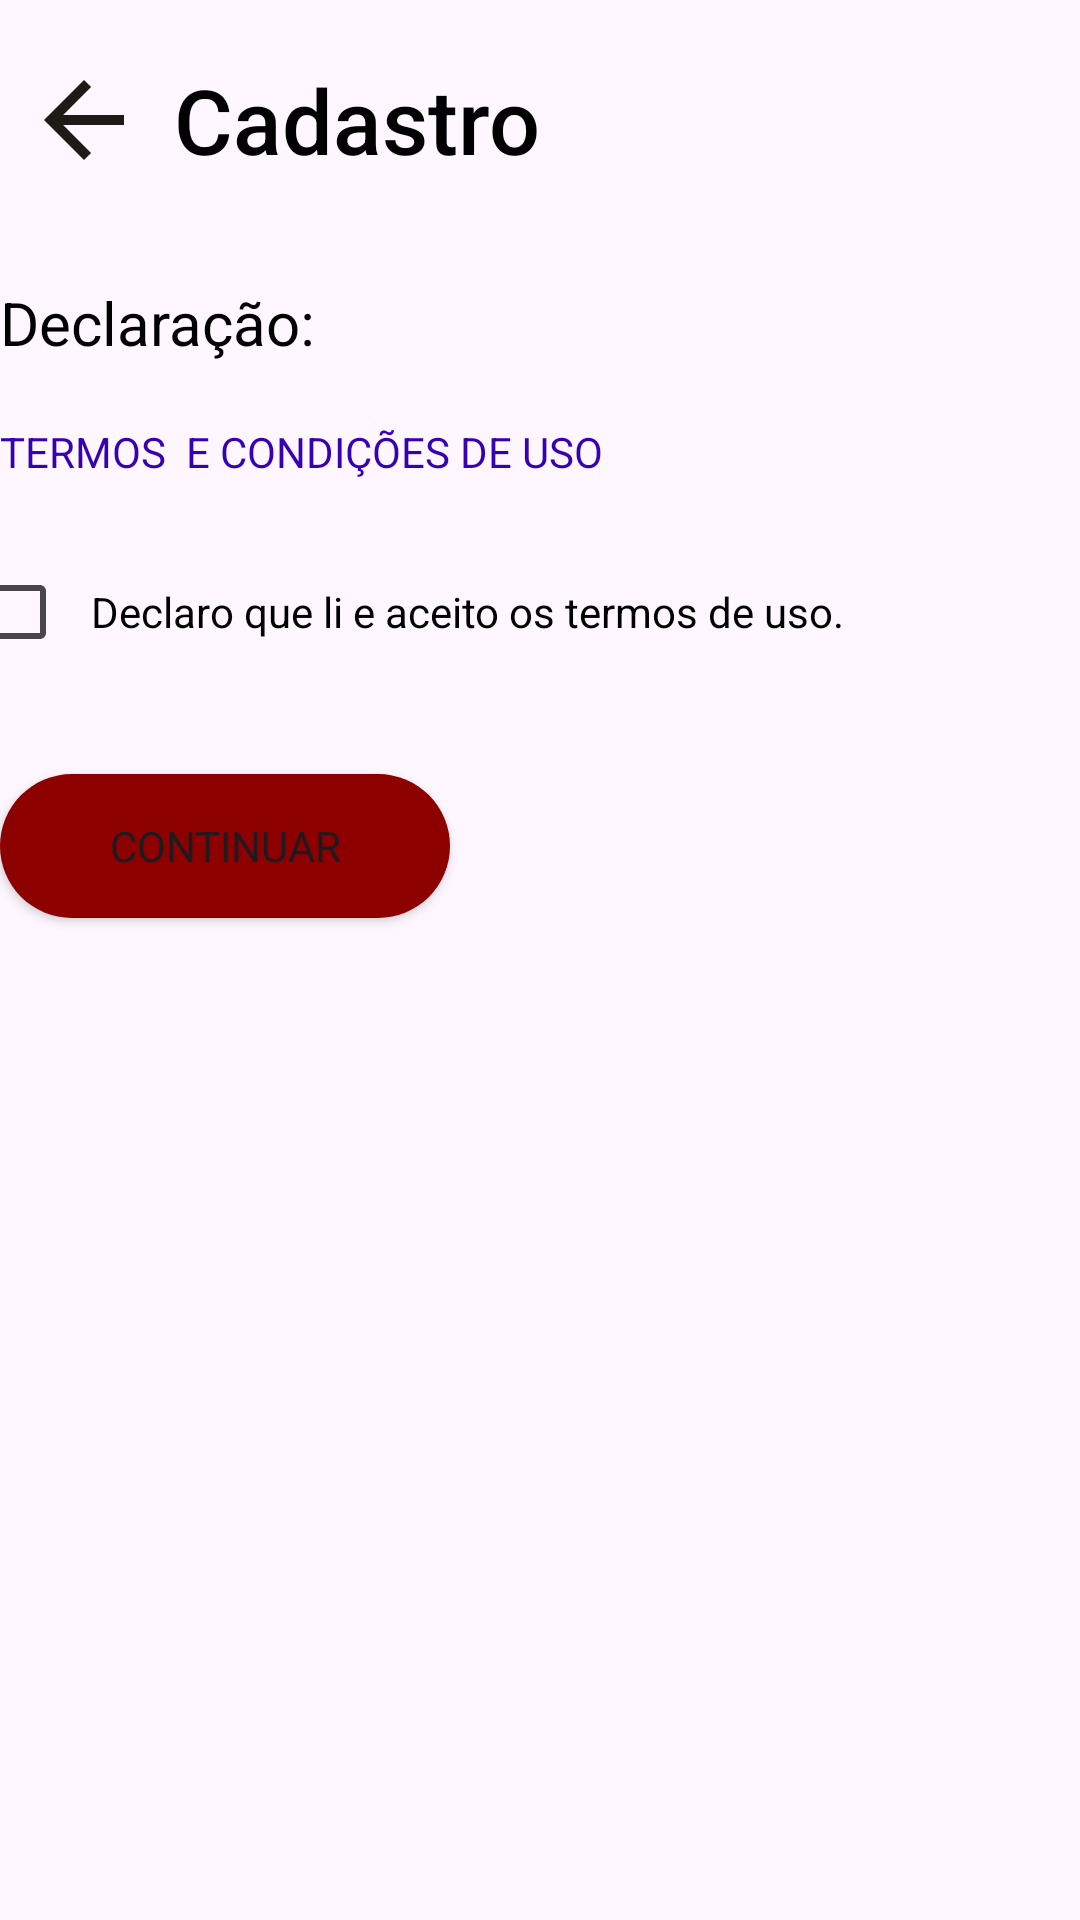

Screen size 1080 x 1920. Icon name, then its box in pixels as (x1,y1,x2,y2):
seta preta voltar: (44,80,124,160)
